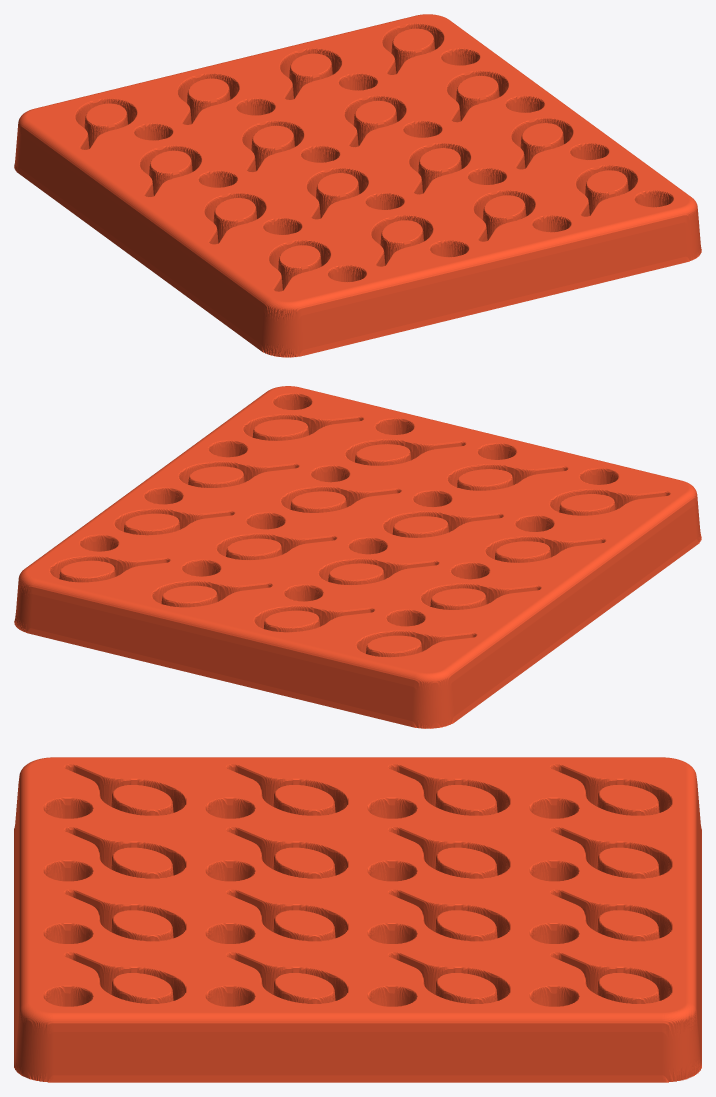
Rendered from mold.glb.
3 views of the same model, one above another, from view 1: azimuth 30°, elevation 25°; view 2: azimuth 150°, elevation 25°; view 3: azimuth 270°, elevation 25° (orthographic). The views are drawn at different scales.
Parts seen in each view (by area): view 1: geometry_0; view 2: geometry_0; view 3: geometry_0.
Part boxes in pixels (x1,y1,x2,y2): geometry_0: [14, 14, 701, 357]; geometry_0: [14, 386, 701, 728]; geometry_0: [14, 757, 701, 1082].
Bounding box in the file's own units: 0.1444 × 0.0159 × 0.1569.
